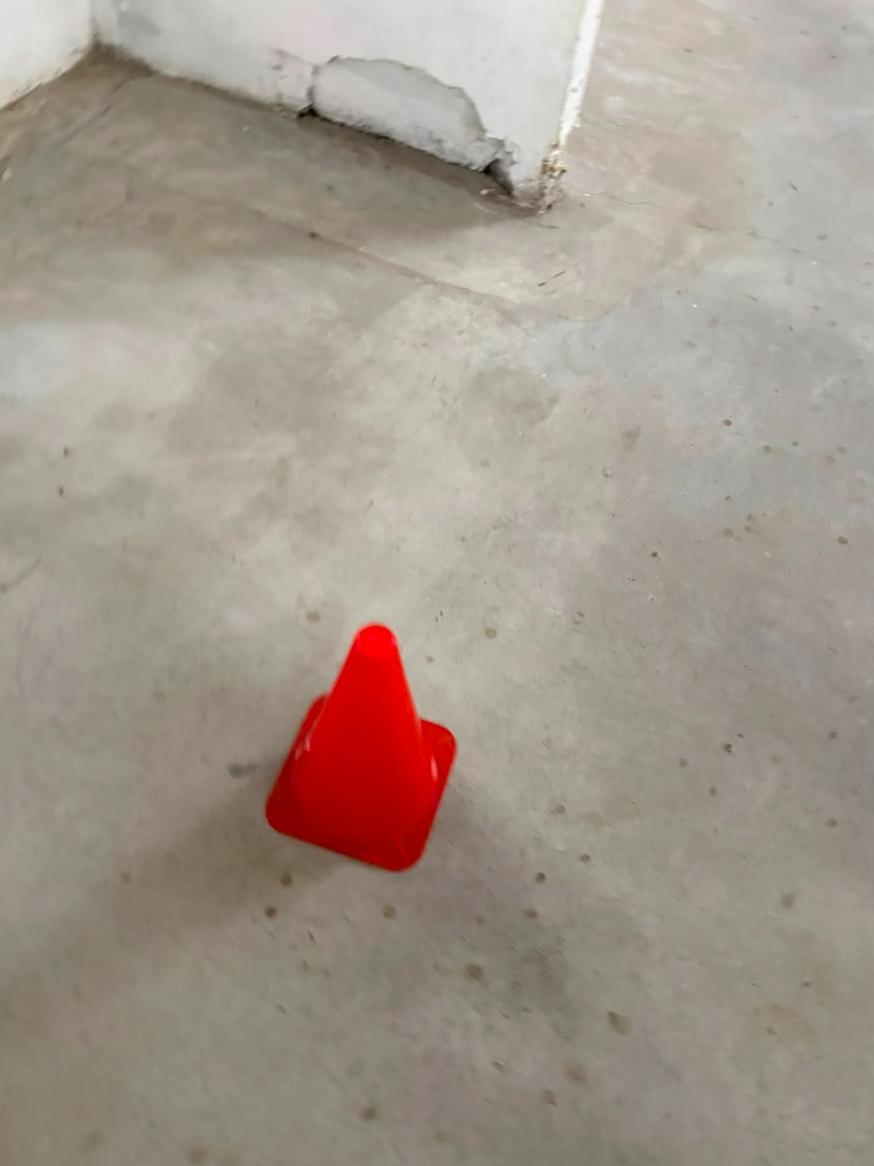0 cone: (266, 625, 456, 869)
